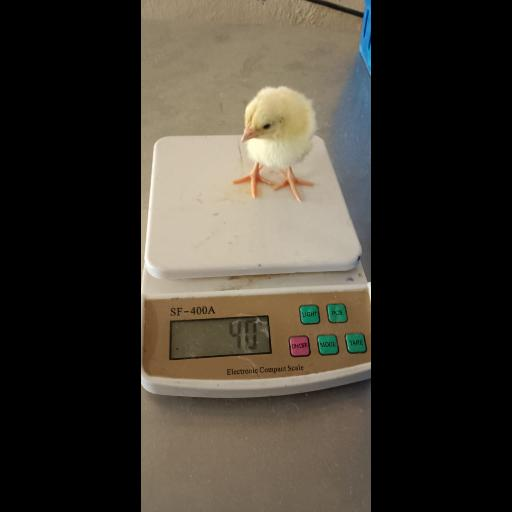chick: (231, 86, 318, 202)
